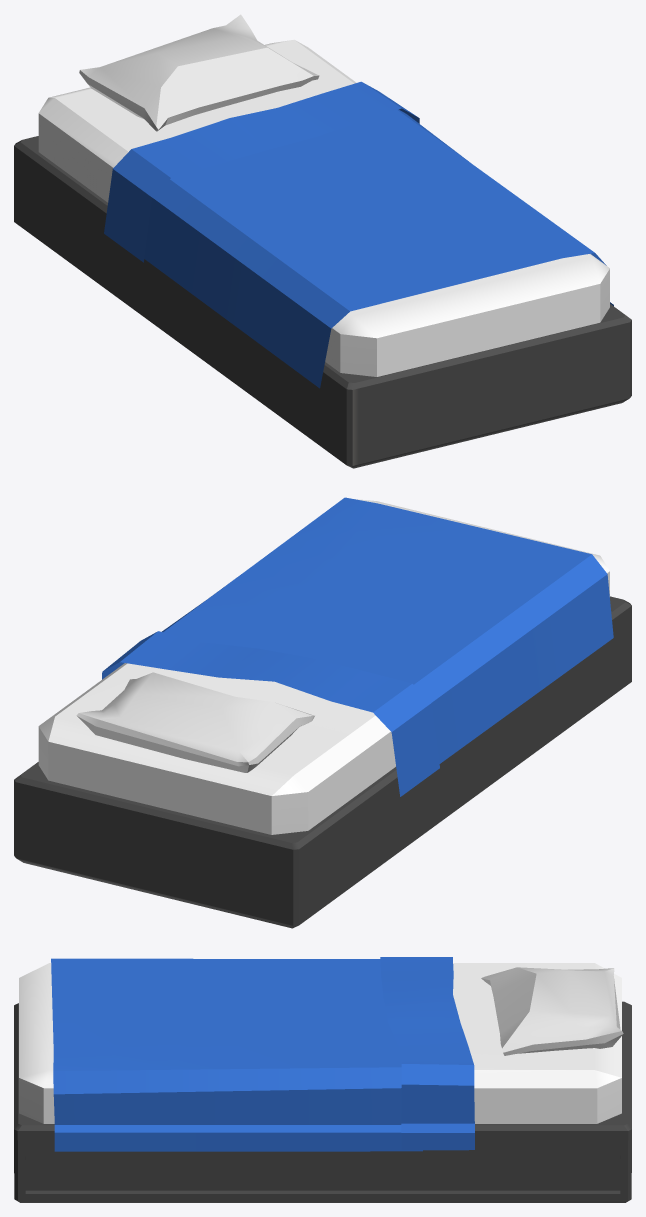
The model's file is Cama01.fbx.
3 renders of one model, top to bottom at view 1: azimuth 30°, elevation 25°; view 2: azimuth 150°, elevation 25°; view 3: azimuth 270°, elevation 25°, orthographic. The views are drawn at different scales.
Visible parts, largest first — view 1: Cama01; view 2: Cama01; view 3: Cama01.
Boxes of the visible parts, x1,y1,x2,y2 form: Cama01: [14, 14, 631, 468]; Cama01: [14, 497, 631, 928]; Cama01: [14, 957, 631, 1202].
Size of the model in its own units: 133 by 74.12 by 263.
